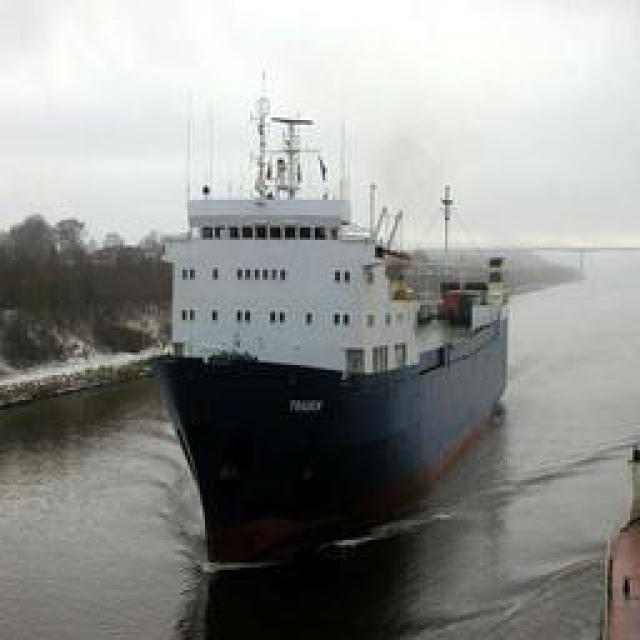Ship: (162, 59, 520, 559)
